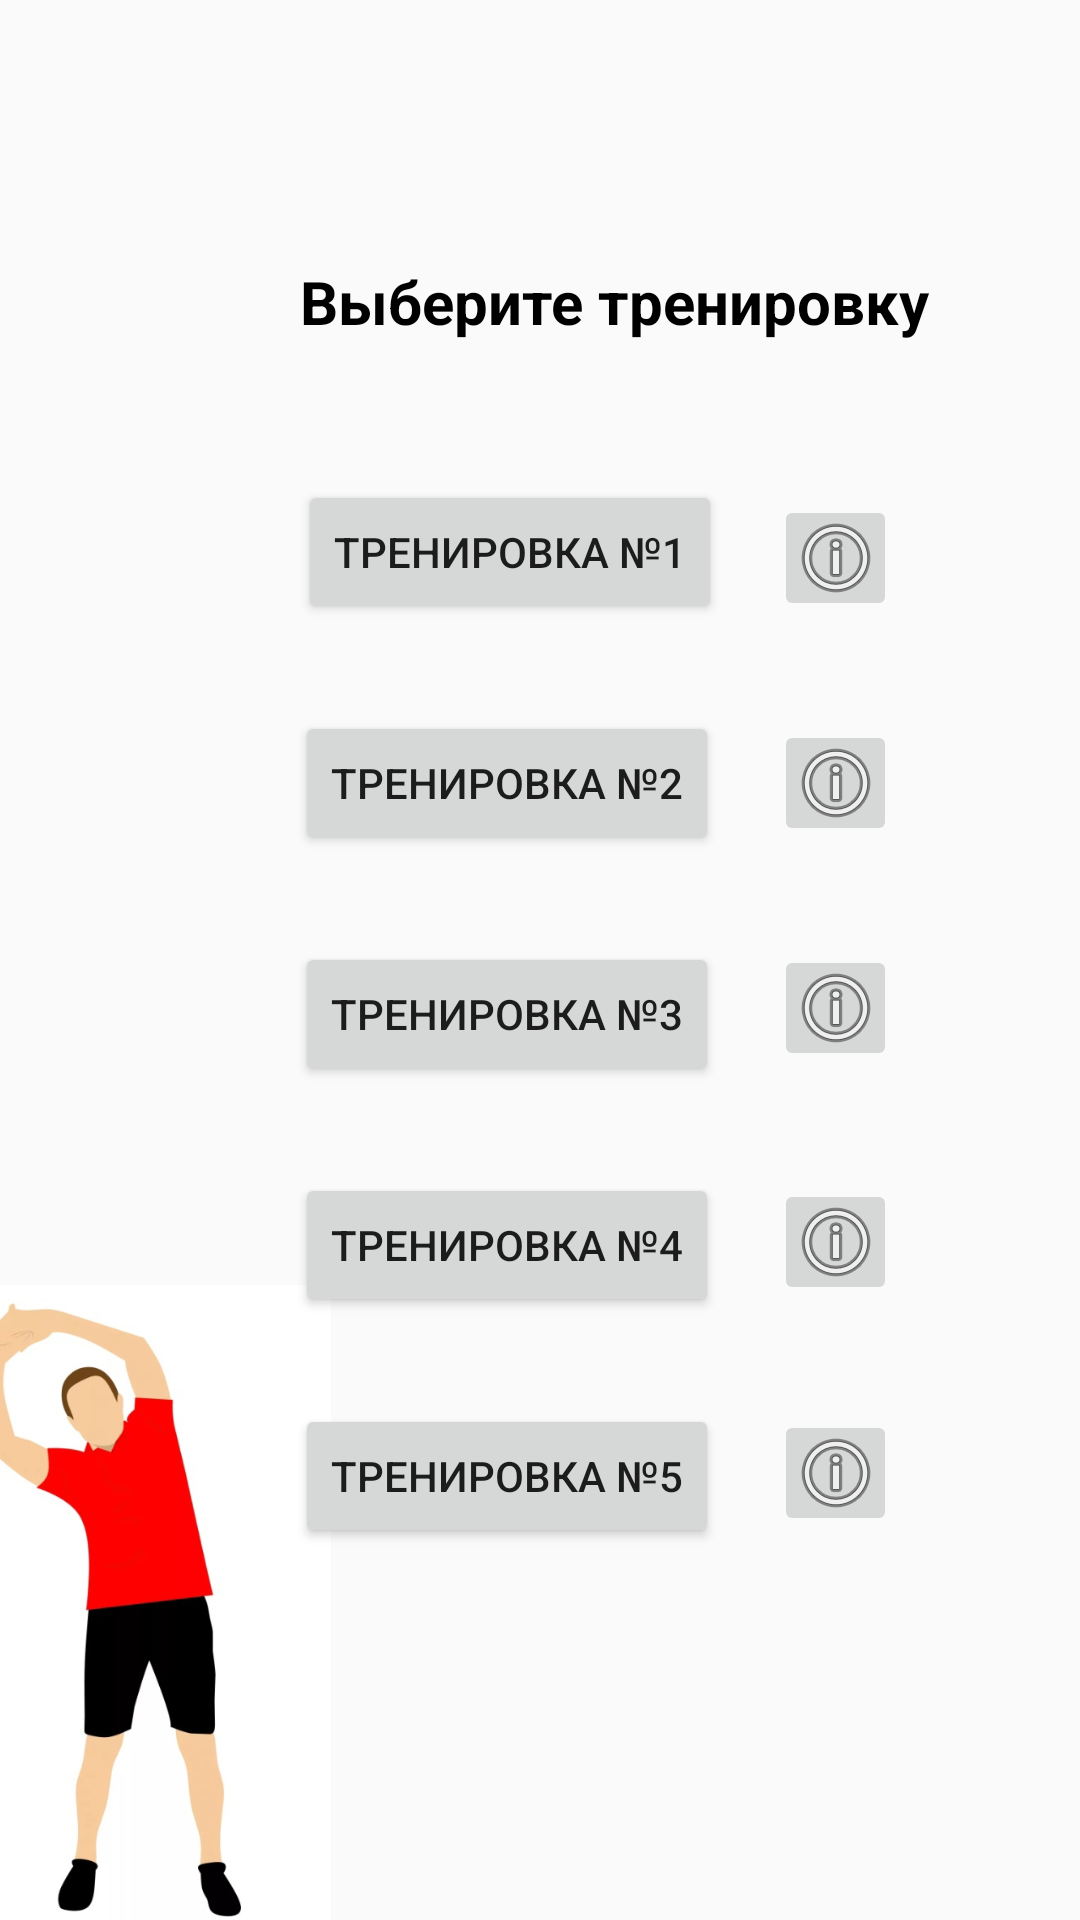

Icons on this 1080 × 1920 Android screen, each with its box as (x1, y1, x2, y2):
info details: (786, 513, 885, 603), (786, 738, 885, 828), (786, 963, 885, 1053), (786, 1197, 885, 1287), (786, 1428, 885, 1518)
